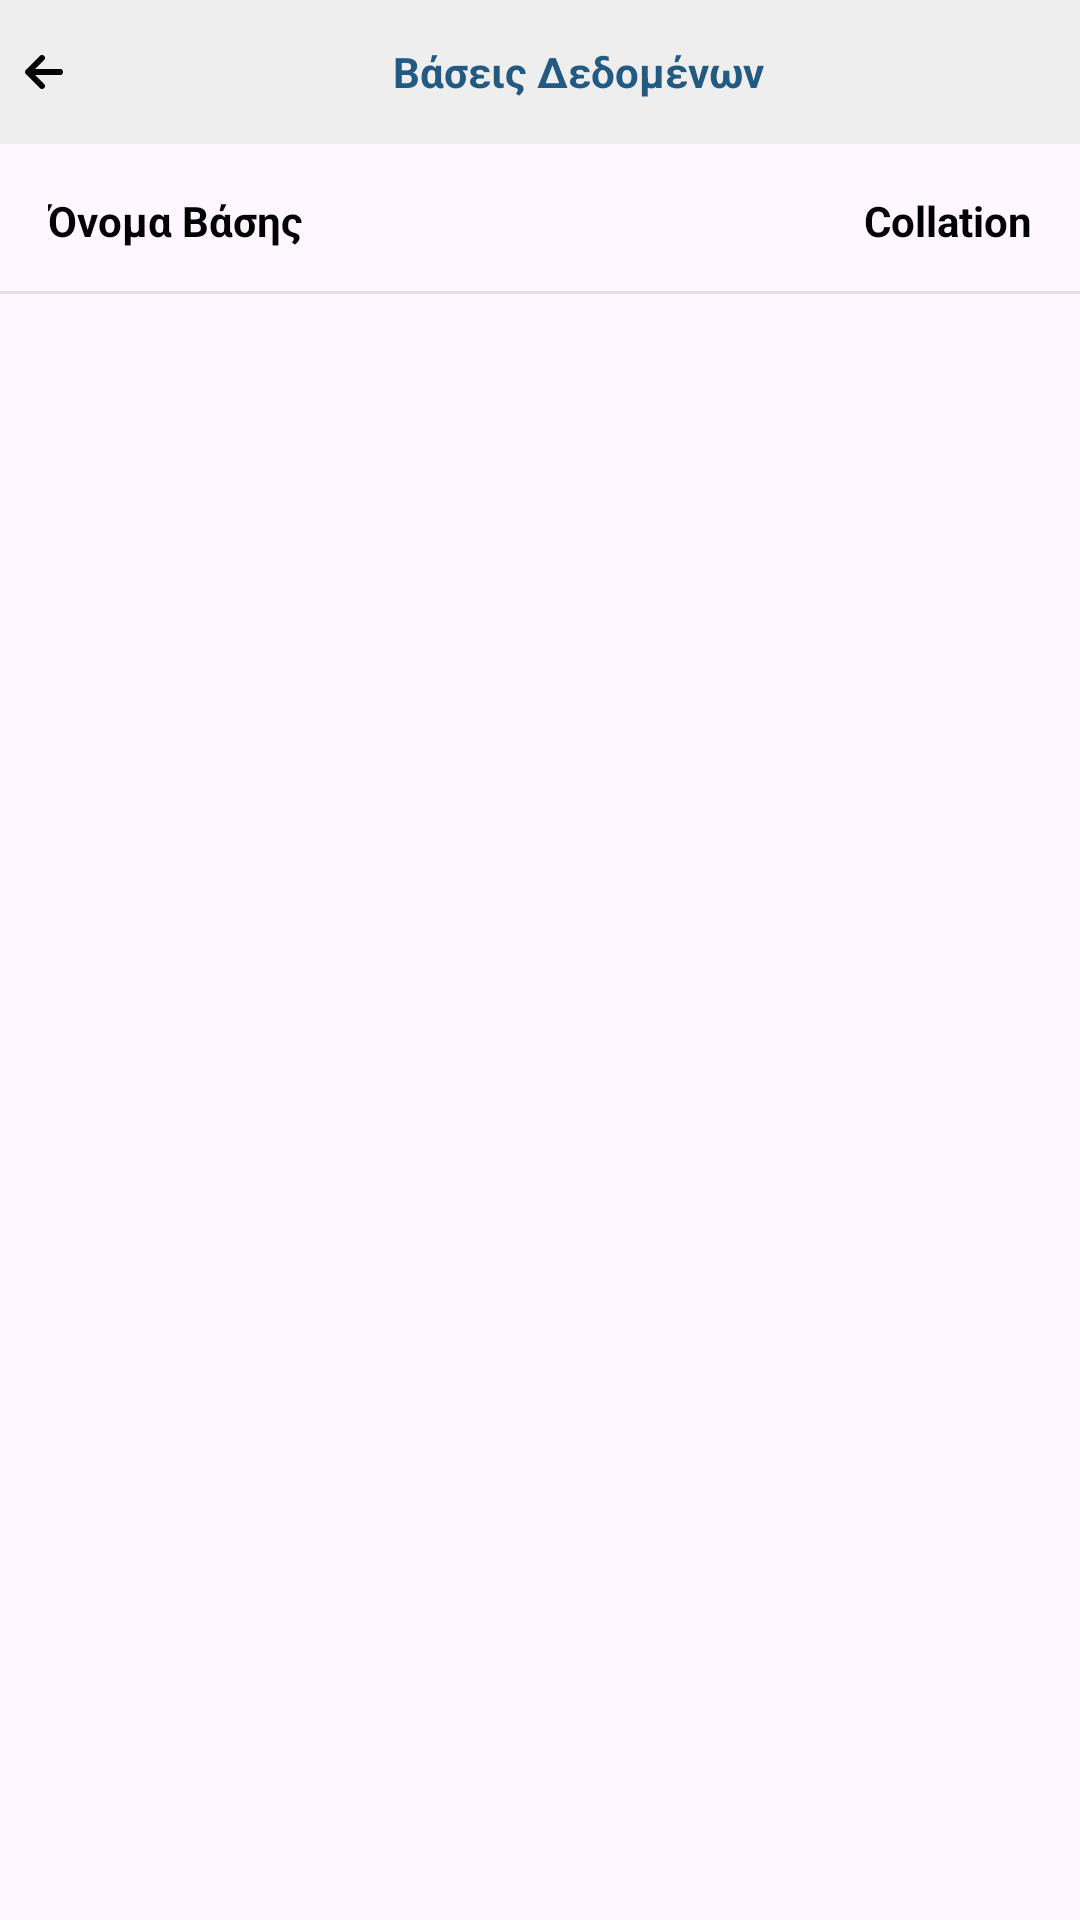

Screen size 1080*1920. Icon name, then its box in pixels as (x1=x1, y1=y1, x2=x2, y2=y2):
left arrow: (x1=25, y1=55, x2=63, y2=89)
